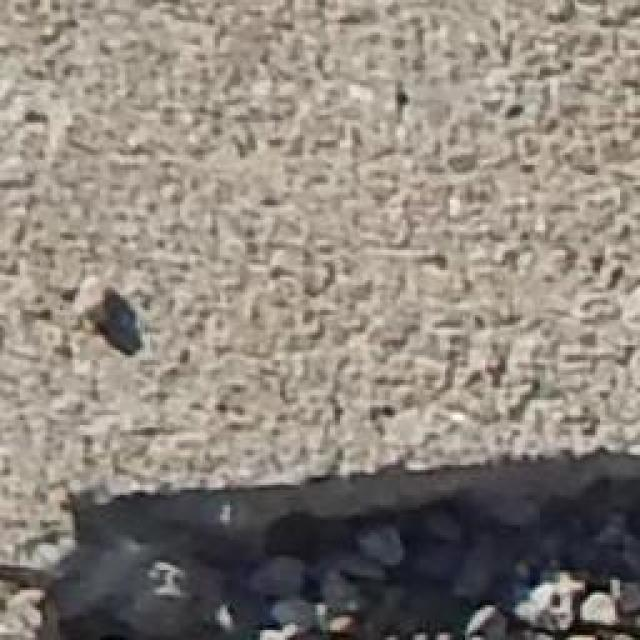concrete-crack: (0, 436, 640, 640)
